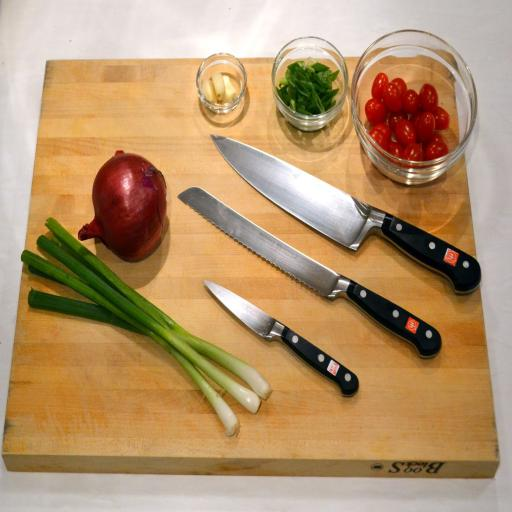knife: (203, 133, 489, 314)
